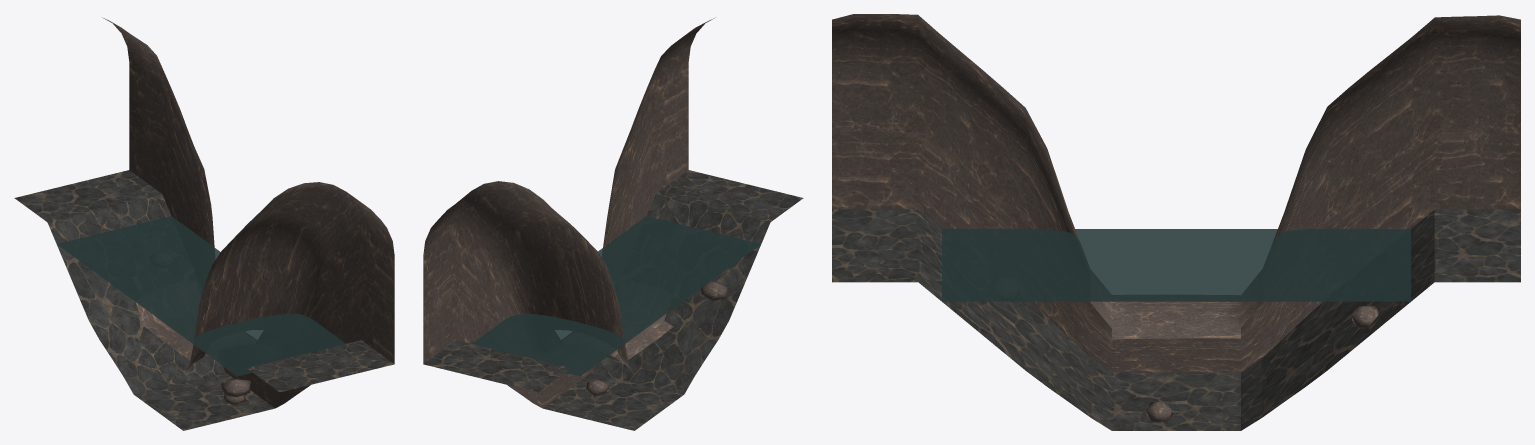
File: hall-flooded.gltf
3 renders of one model, left to right at view 1: azimuth 30°, elevation 25°; view 2: azimuth 150°, elevation 25°; view 3: azimuth 270°, elevation 25°, orthographic. The views are drawn at different scales.
Visible parts, largest first — view 1: hall-flooded-mesh, hall-flooded-water; view 2: hall-flooded-mesh, hall-flooded-water; view 3: hall-flooded-mesh, hall-flooded-water.
Boxes of the visible parts, x1=… form: hall-flooded-mesh: x1=14, y1=17, x2=394, y2=430; hall-flooded-water: x1=57, y1=216, x2=345, y2=376; hall-flooded-mesh: x1=423, y1=17, x2=803, y2=430; hall-flooded-water: x1=472, y1=216, x2=760, y2=376; hall-flooded-mesh: x1=832, y1=14, x2=1520, y2=430; hall-flooded-water: x1=942, y1=229, x2=1410, y2=301.
Size of the model in its own units: 2.11 by 4.91 by 8.
3 materials, 2 textured.
